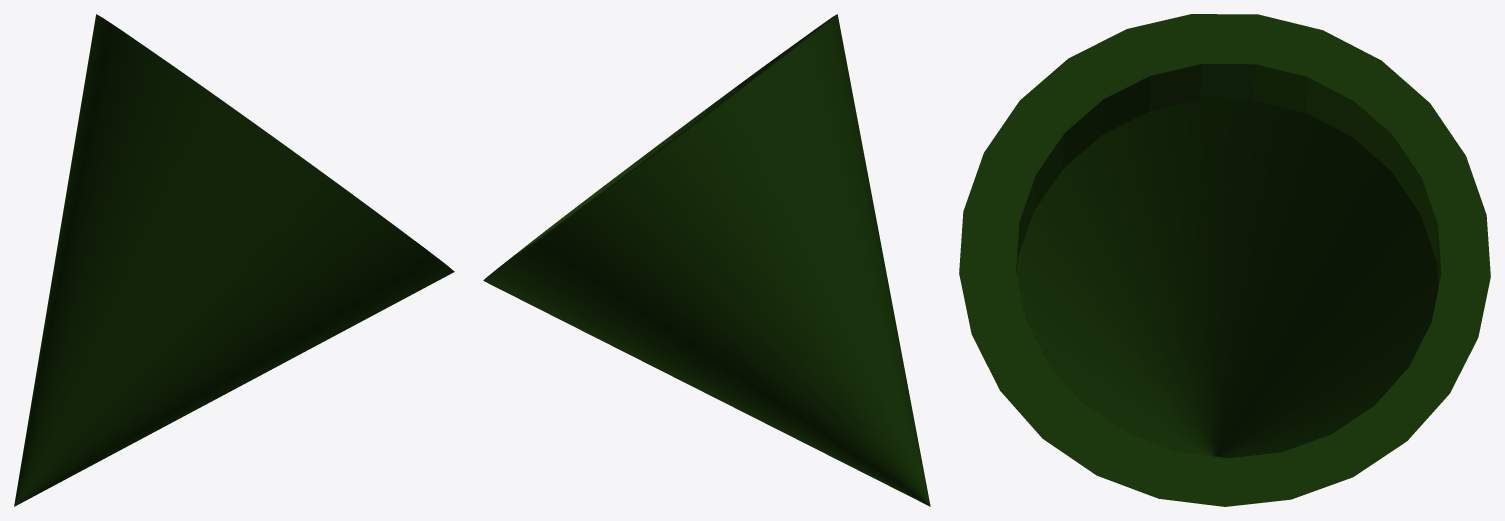
The model's file is CONO BAKEADO.fbx.
3 views of the same model, side by side, from view 1: azimuth 30°, elevation 25°; view 2: azimuth 150°, elevation 25°; view 3: azimuth 270°, elevation 25° (orthographic). The views are drawn at different scales.
Visible parts, largest first — view 1: Cone001; view 2: Cone001; view 3: Cone001.
Part boxes in pixels (bbox=[...]): Cone001: bbox=[14, 14, 454, 506]; Cone001: bbox=[483, 14, 930, 506]; Cone001: bbox=[959, 14, 1490, 506].
Bounding box in the file's own units: 182 × 186 × 172.
